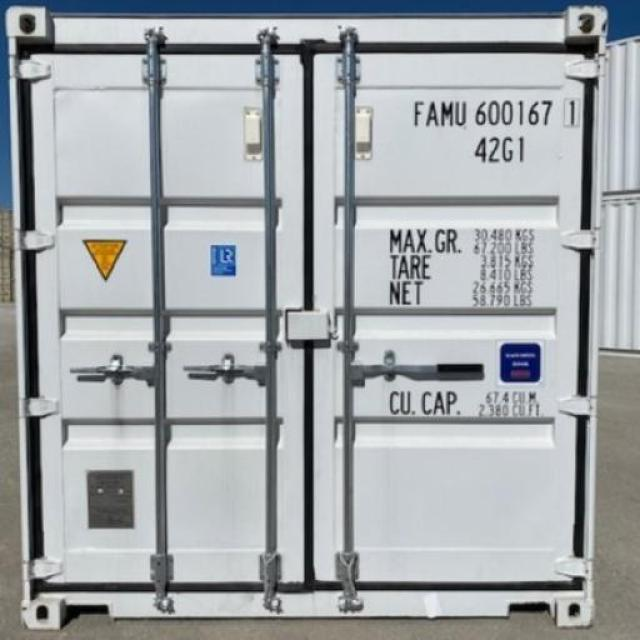ISO: (475, 136, 527, 165)
container_number: (419, 98, 578, 128)
